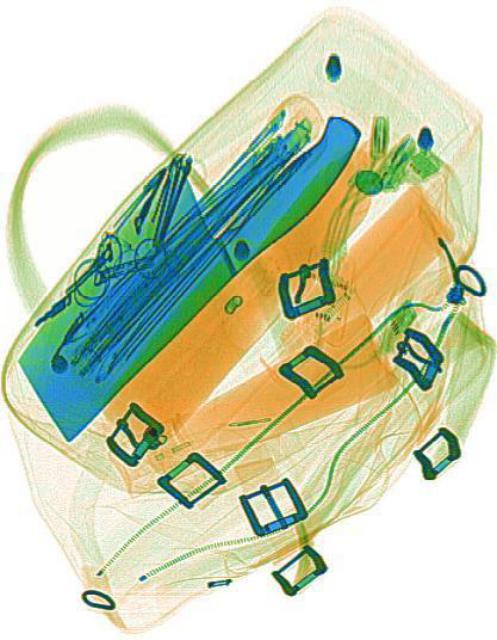Knife: (0, 45, 371, 449)
